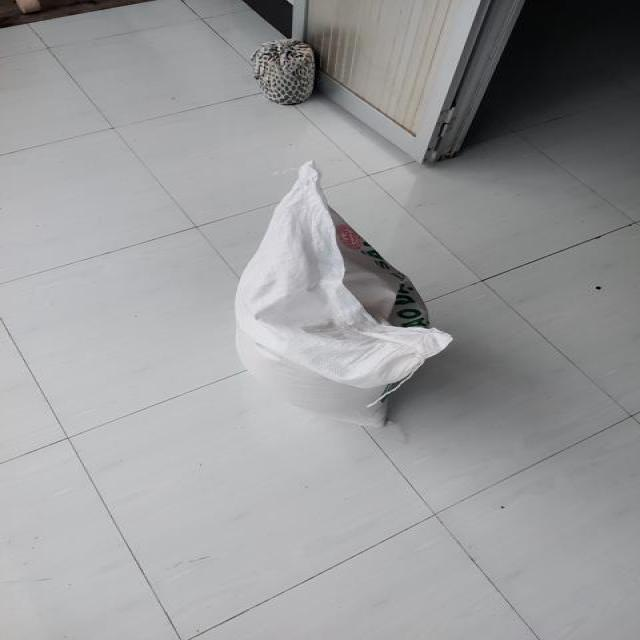gunny_bag: (235, 162, 453, 426)
